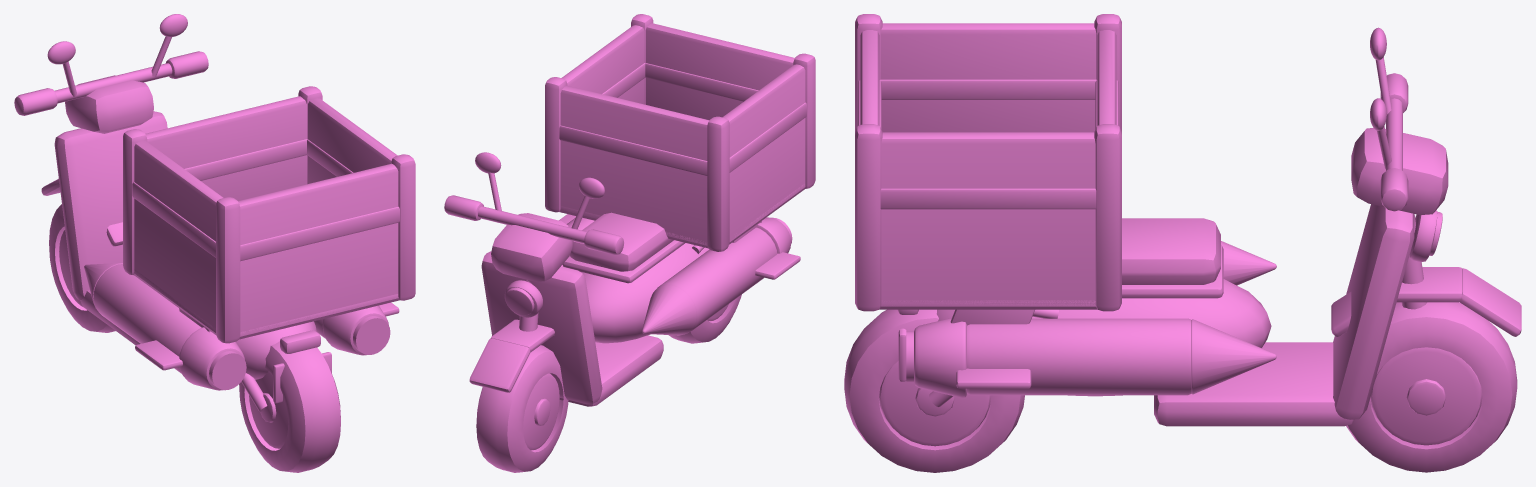
File: Vehicle_RocketScooter.fbx
The picture shows the model from 3 angles, left to right: view 1: azimuth 30°, elevation 25°; view 2: azimuth 150°, elevation 25°; view 3: azimuth 270°, elevation 25°; orthographic projection. The views are drawn at different scales.
Visible parts, largest first — view 1: Body, Paint, RearWheel, FrontWheel; view 2: Body, Paint, FrontWheel, RearWheel; view 3: Body, Paint, FrontWheel, RearWheel.
Boxes of the visible parts, x1,y1,x2,y2 form: Body: (14, 14, 415, 411); Paint: (41, 75, 316, 379); RearWheel: (239, 341, 340, 472); FrontWheel: (49, 204, 115, 332); Body: (444, 14, 815, 335); Paint: (469, 213, 709, 406); FrontWheel: (476, 345, 568, 472); RearWheel: (668, 294, 741, 343); Body: (855, 14, 1442, 406); Paint: (936, 128, 1521, 426); FrontWheel: (1346, 302, 1517, 472); RearWheel: (844, 309, 1024, 472).
Size of the model in its own units: 3.3 by 4.14 by 6.34.
Materials: 1 (1 with a texture image).
